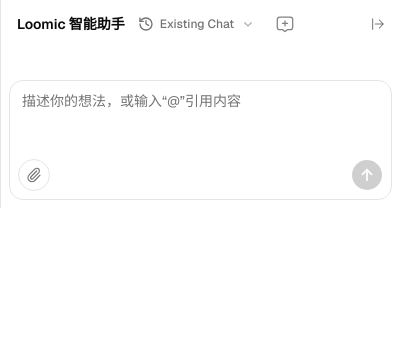
Scenario: ChatSidebar › shows an unavailable personal default immediately and releases streaming state and listeners for retry
Type "hello" into the text box with placeholder "描述你的想法，或输入“@”引用内容" at (200,113), box [18,89,383,137]
Then press Enter
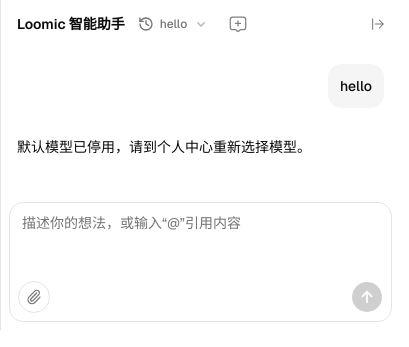
Expected: the button named "发送消息" is shown, [351,281,383,313]
Result: the text "默认模型已停用，请到个人中心重新选择模型。" is shown at [17,136,344,158]
